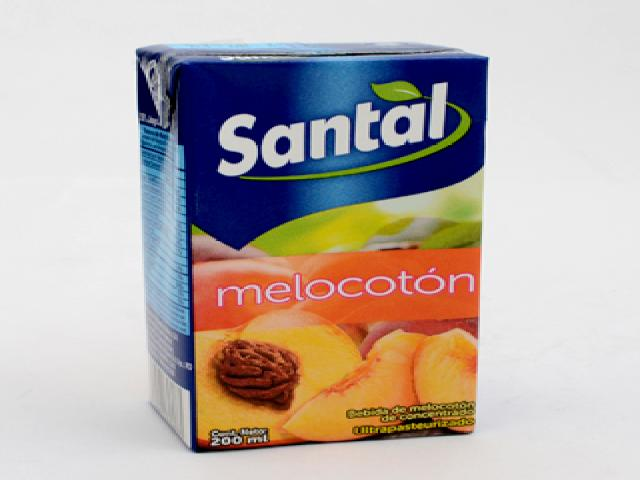drink_box: (130, 36, 494, 456)
